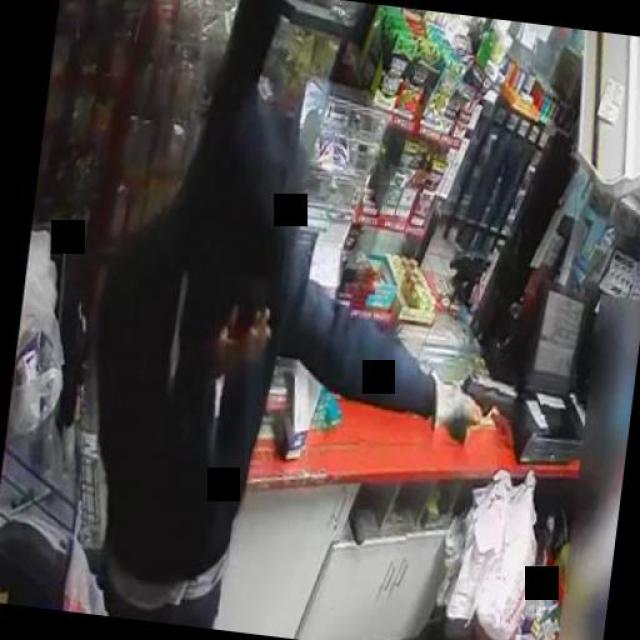gun: (454, 368, 520, 443)
